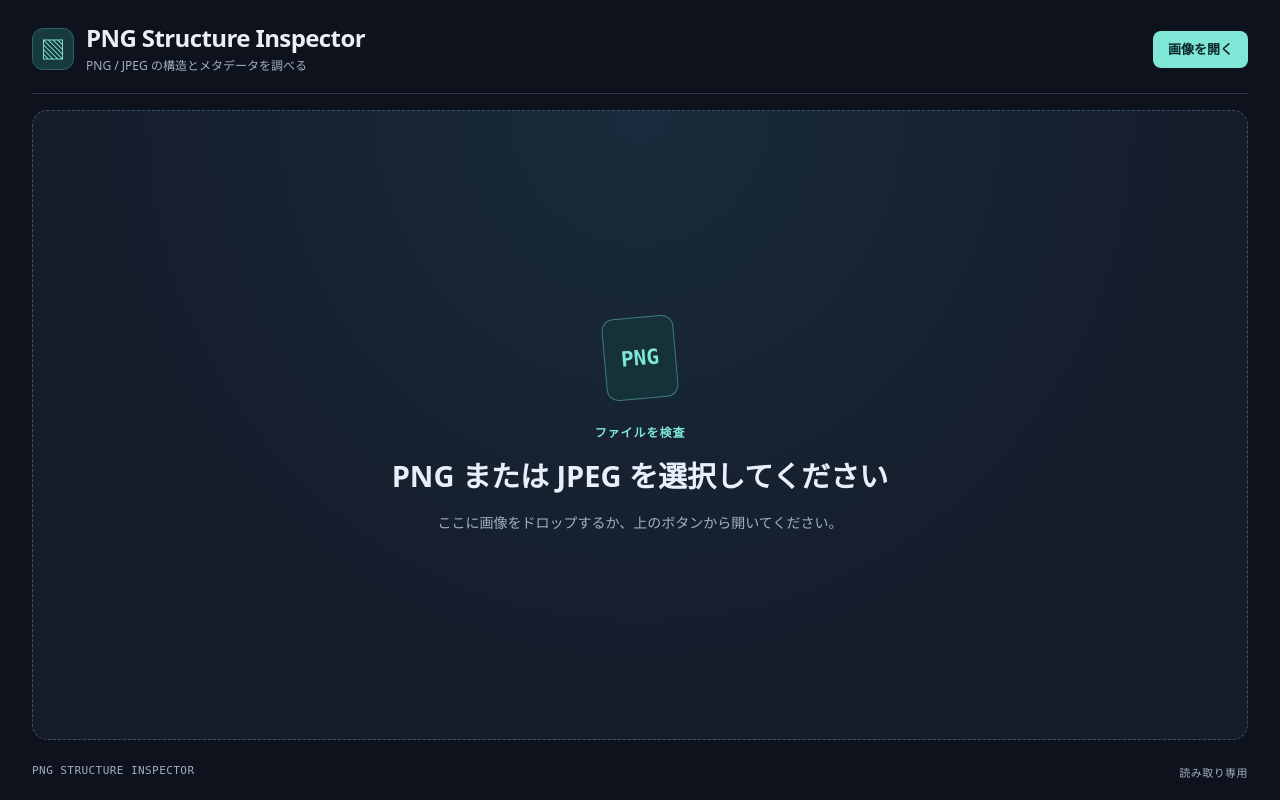
Test case: PNG inspection › opens a PNG, lists chunks in file order and changes details when selected
This screenshot has width=1280, height=800.
Click the button "画像を開く". click: [1200, 49]
box: top-left (1153, 31), bottom-right (1248, 68)
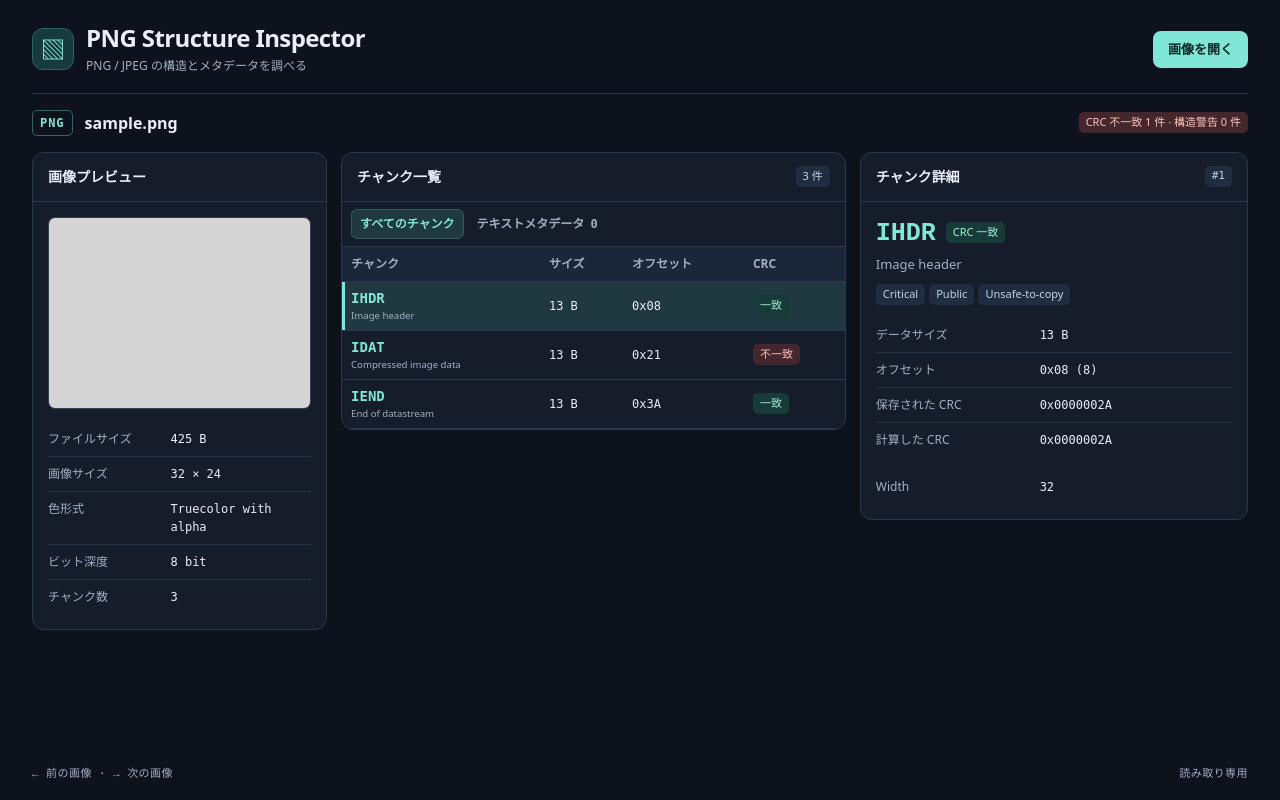
expect the text "sample.png" is shown: met, box top-left (85, 111), bottom-right (178, 135)
expect the text "32 × 24" is shown: met, box top-left (170, 467), bottom-right (221, 481)
expect the text "Width" is shown: met, box top-left (876, 478), bottom-right (909, 495)
Click the button "IDAT". click: [368, 347]
box: top-left (351, 339), bottom-right (385, 355)
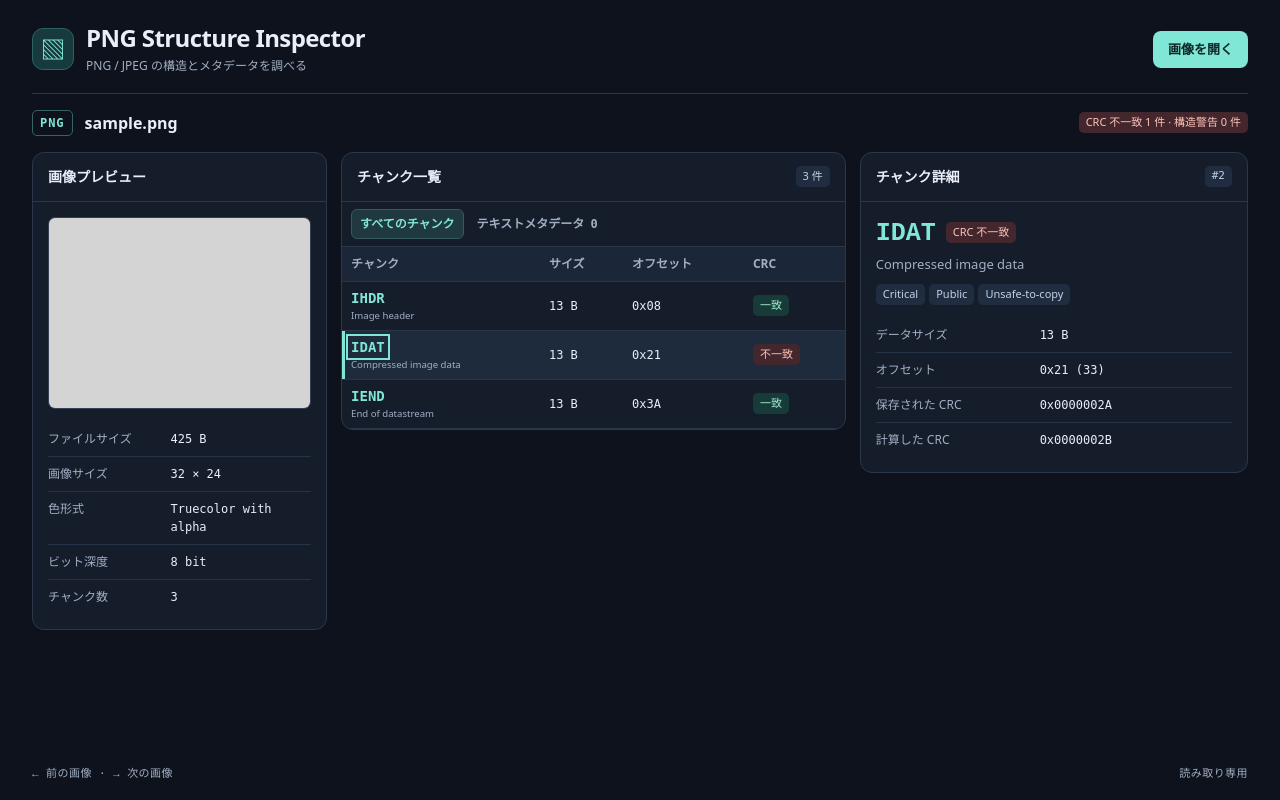
expect the text "Compressed image data" below "詳細" is shown: met, box top-left (876, 255), bottom-right (1024, 273)
expect the text "CRC 不一致" is shown: met, box top-left (946, 222), bottom-right (1016, 243)
expect the text "Width" is gone: met
